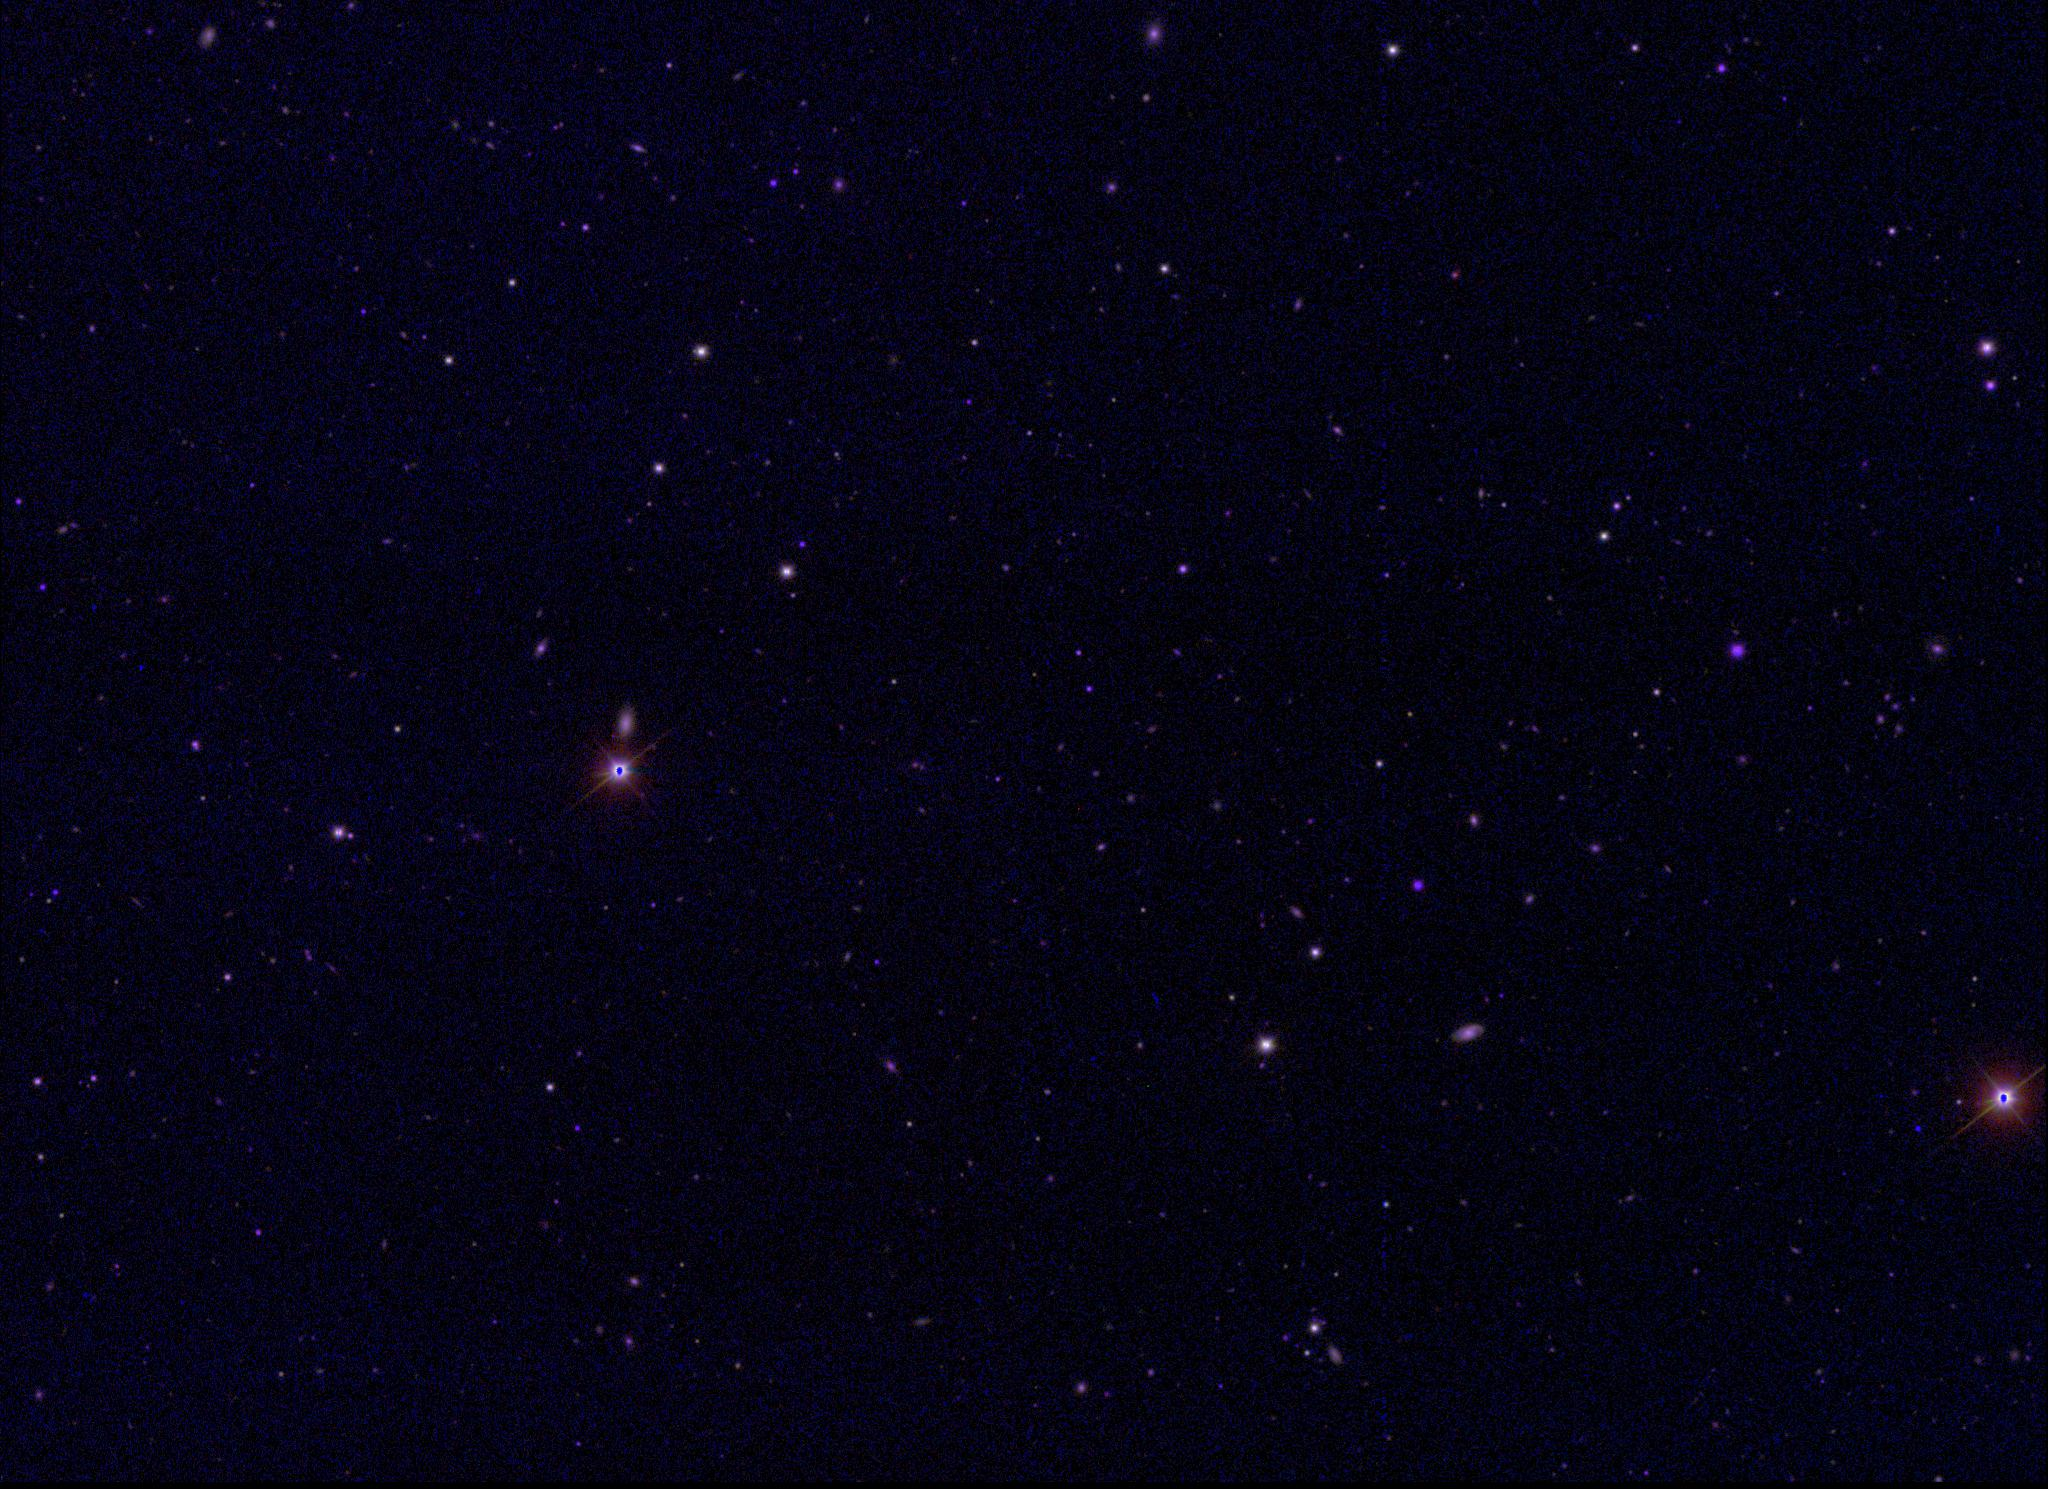L: (1911, 1120, 1926, 1134)
